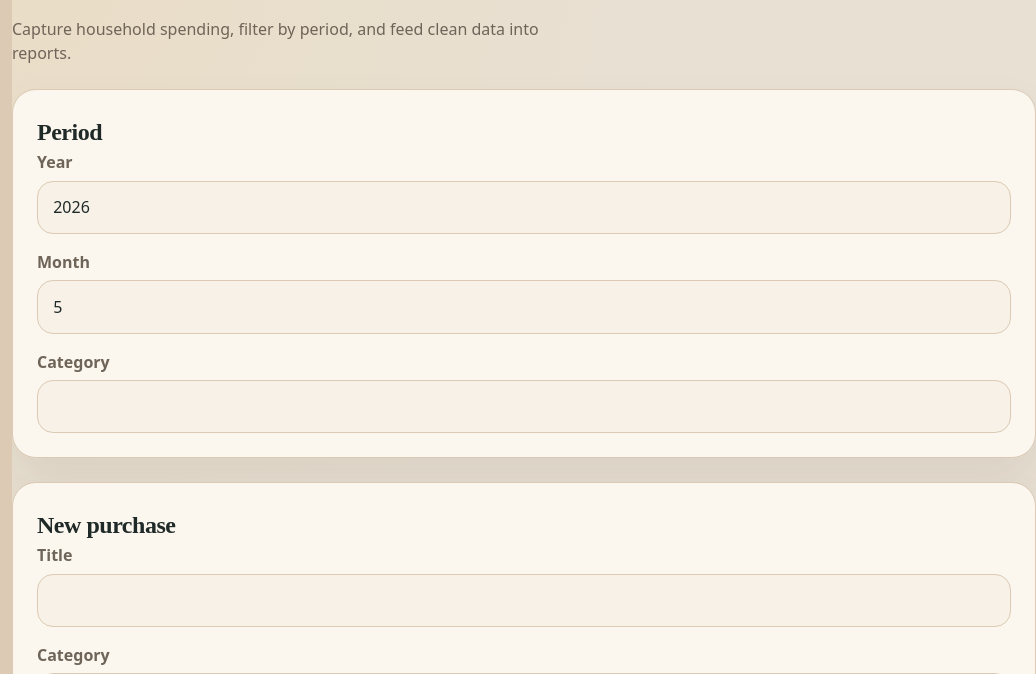
Test: purchases page › filters purchases by category
Step 1. Type "TRANSPORT" into the field labelled "Category" below "Month" → (524, 407), box x1=37 y1=380 x2=1011 y2=433
(page scrolled)
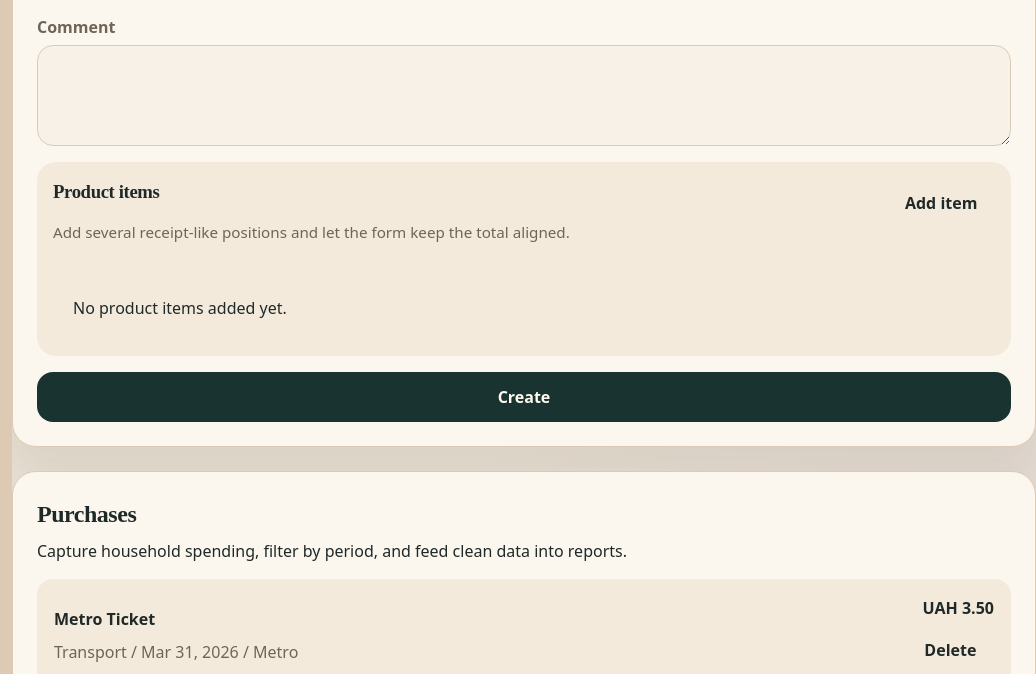
Check: the text "Metro Ticket" is shown, box x1=54 y1=608 x2=155 y2=630
